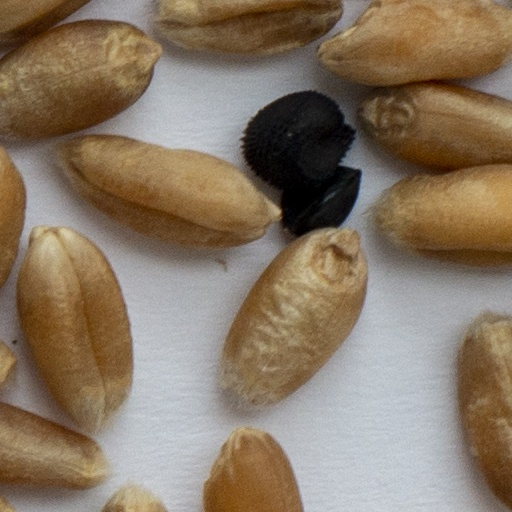Agrostemma-poly: (243, 92, 352, 195)
Fallopia-Convolvulus-poly: (280, 164, 361, 236)
